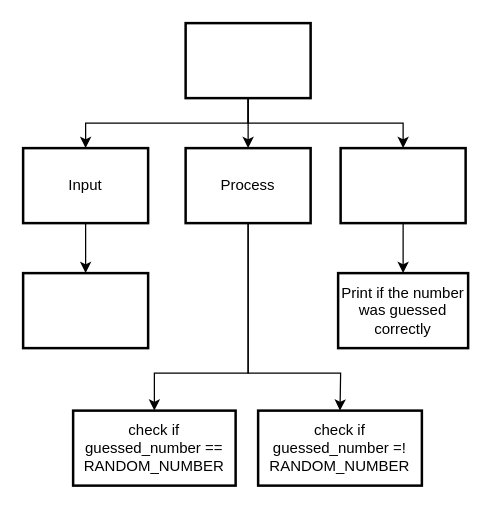
This 490x508 diagram has some shape labels left out. Here are the shapes that lost their labels. From the top down, the centre of each, then its label:
pixel 247 60: Number Guesser
pixel 402 185: Output
pixel 85 310: Get guessed_number
